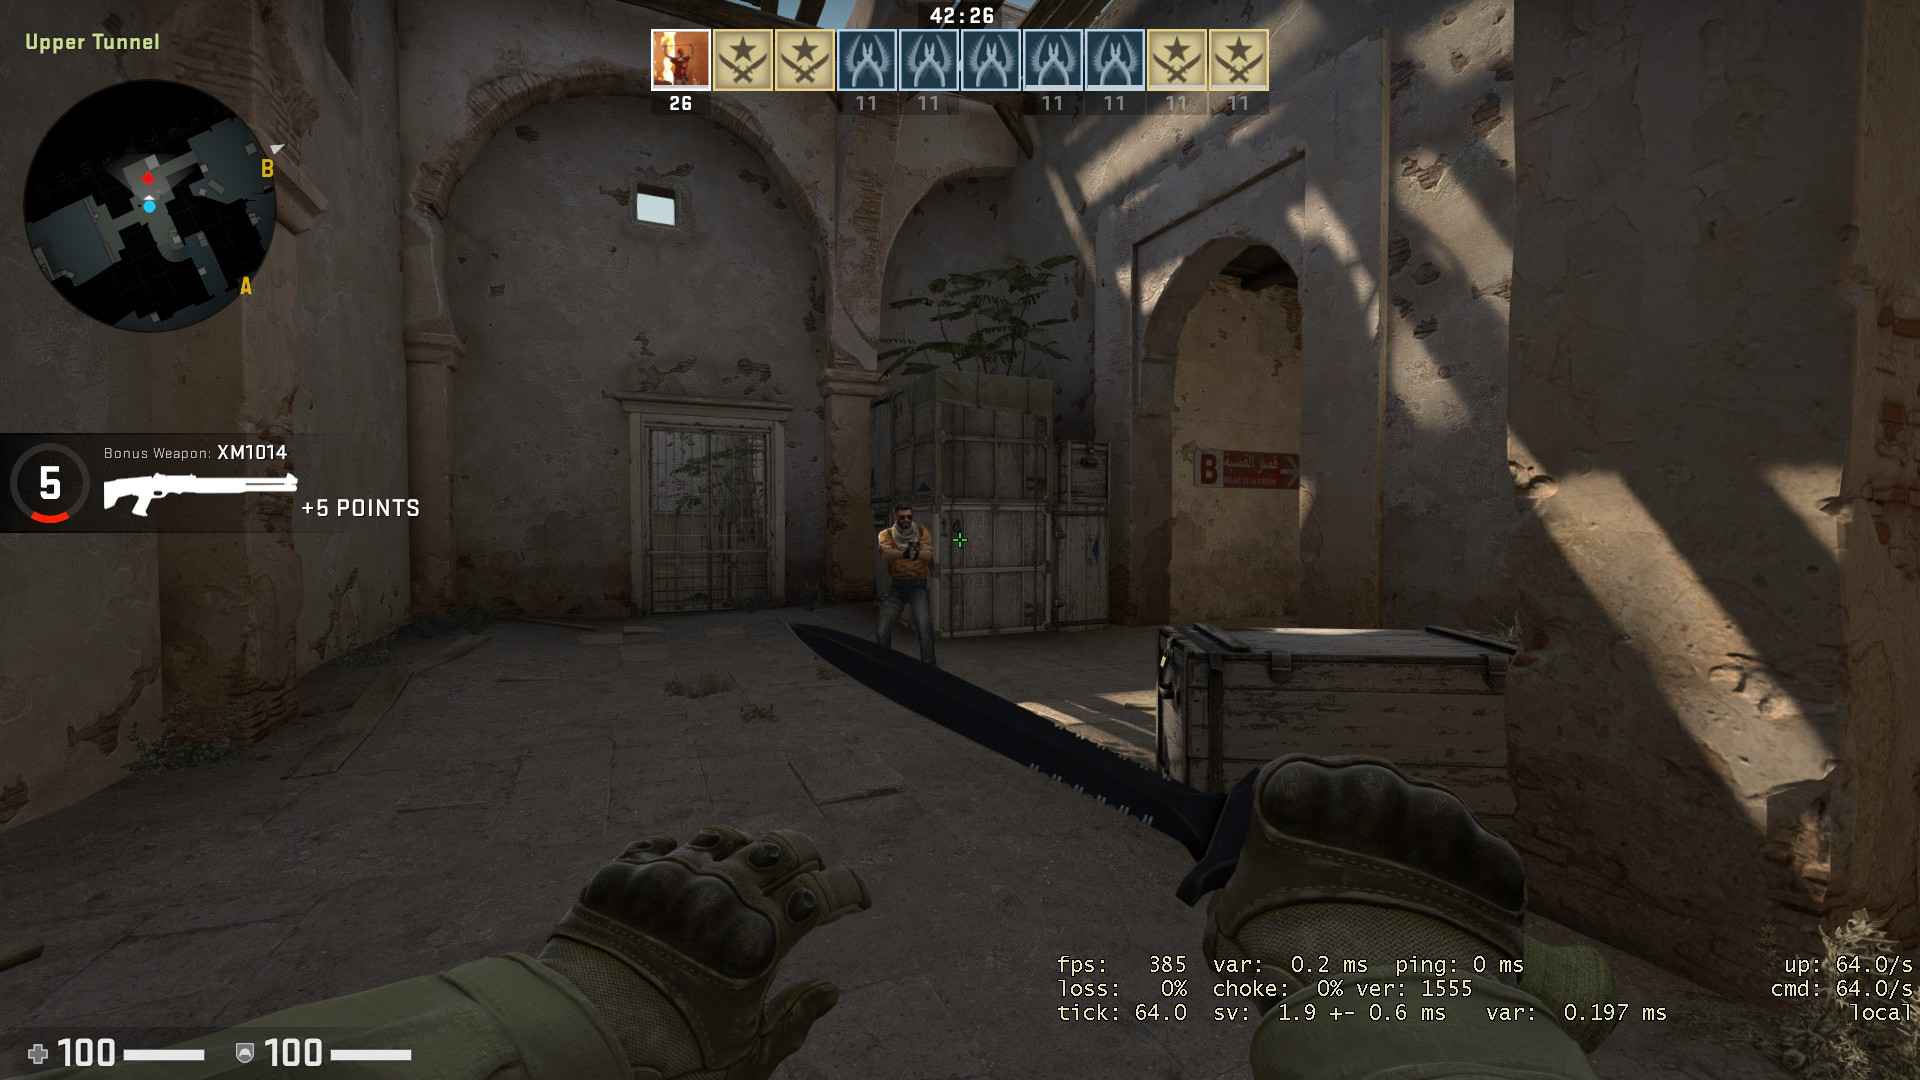player: (873, 498, 942, 675)
